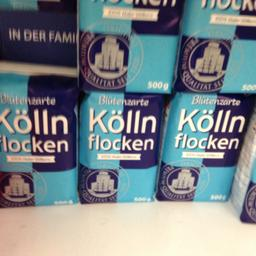cereal: (0, 78, 78, 208), (160, 89, 248, 201), (79, 86, 160, 204), (80, 0, 170, 90), (178, 0, 252, 93)
